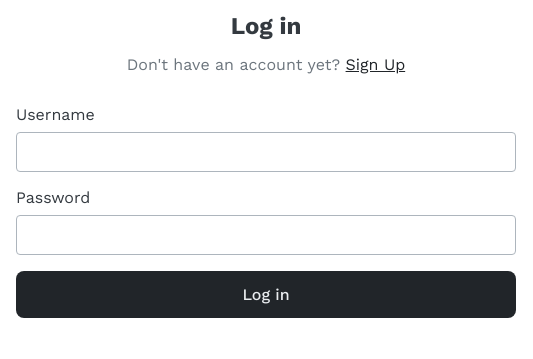
Test case: Shows error message when submit button is clicked and password field is empty
In the field labelled "Username": (266, 152) x1=16 y1=132 x2=516 y2=172, type "johndoe1"
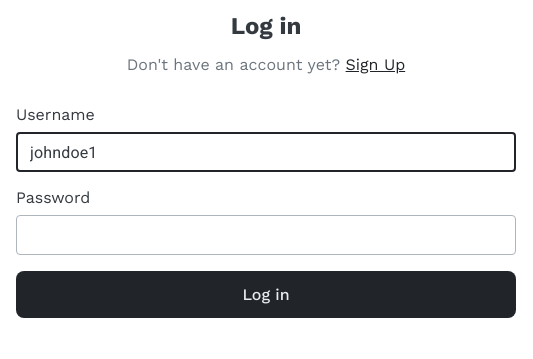
Click the button "Log in": (266, 294) x1=16 y1=271 x2=516 y2=318
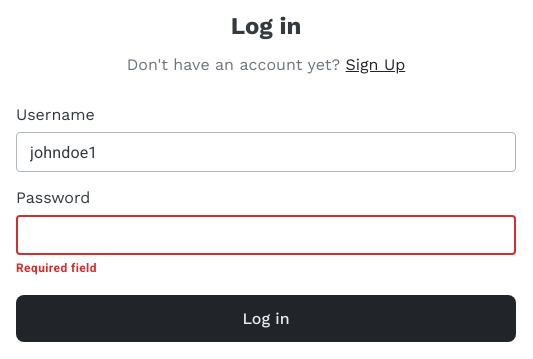
expect the text "Required field" is shown: met, box x1=16 y1=261 x2=97 y2=275
